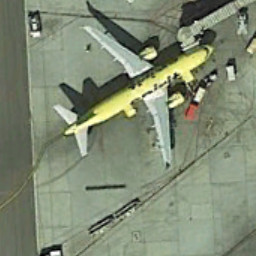Airplane: (44, 15, 220, 171)
